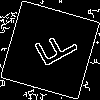F: (25, 25, 80, 74)
